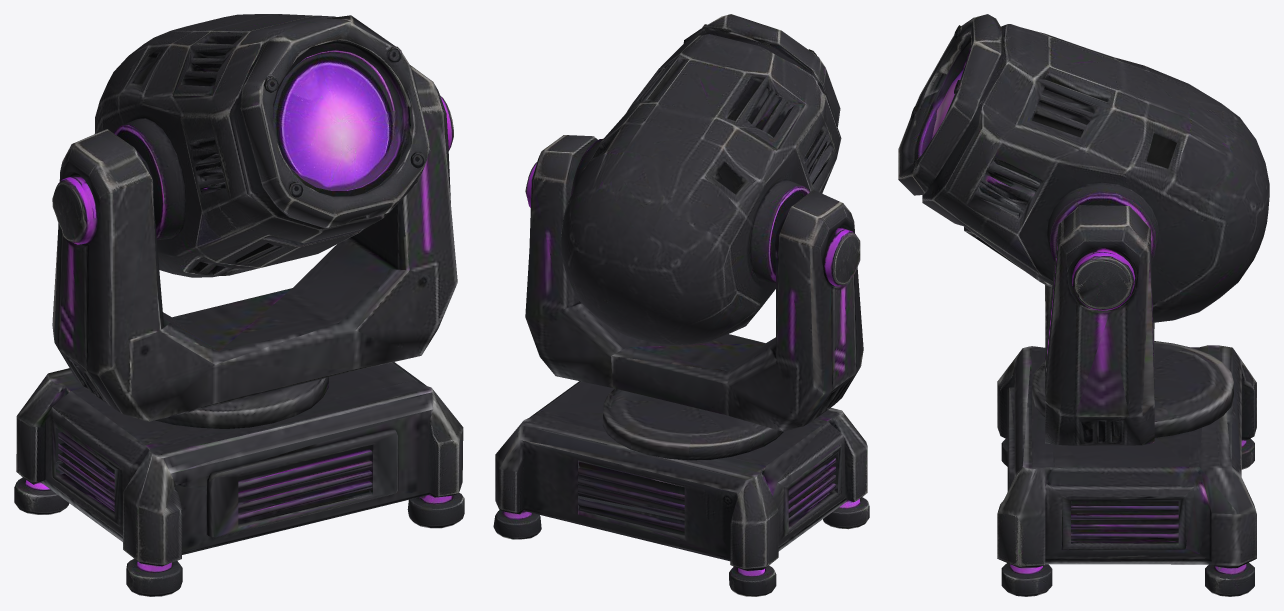
File: light_opt.glb
3 renders of one model, left to right at view 1: azimuth 30°, elevation 25°; view 2: azimuth 150°, elevation 25°; view 3: azimuth 270°, elevation 25°, orthographic. The views are drawn at different scales.
Size of the model in its own units: 0.6783 by 0.9521 by 0.6455.
1 material, 1 textured.
